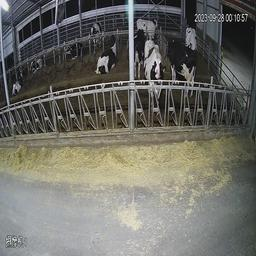cow: (165, 29, 200, 101), (144, 35, 165, 119), (96, 25, 122, 82), (138, 13, 167, 45), (5, 63, 26, 100), (183, 18, 203, 52), (27, 47, 48, 76), (64, 35, 84, 65), (86, 16, 104, 49), (132, 22, 140, 78)
